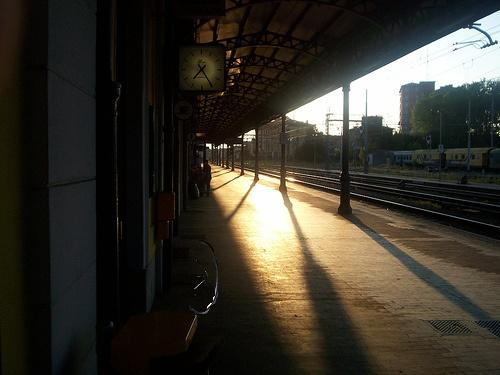tampered: (189, 240, 218, 314)
